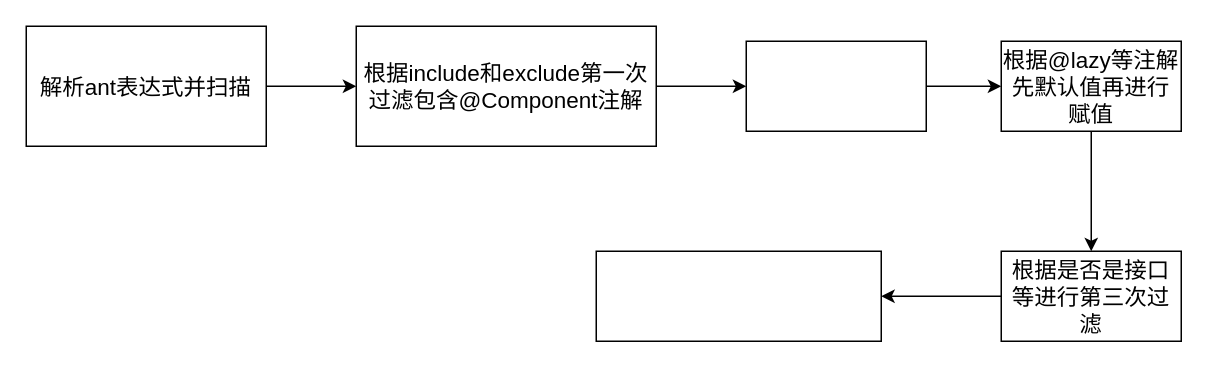
Image size: 1208x368. Some labels were removed from this diagram. The shapes that lost their labels are listed below. From the top down, each one's box as (x1, y1, x2, y2) in pixels, then its label:
(745, 40, 926, 131): 根据@Conditional进行第二次过滤
(595, 250, 881, 341): 执行beanDefinitionMap.put
